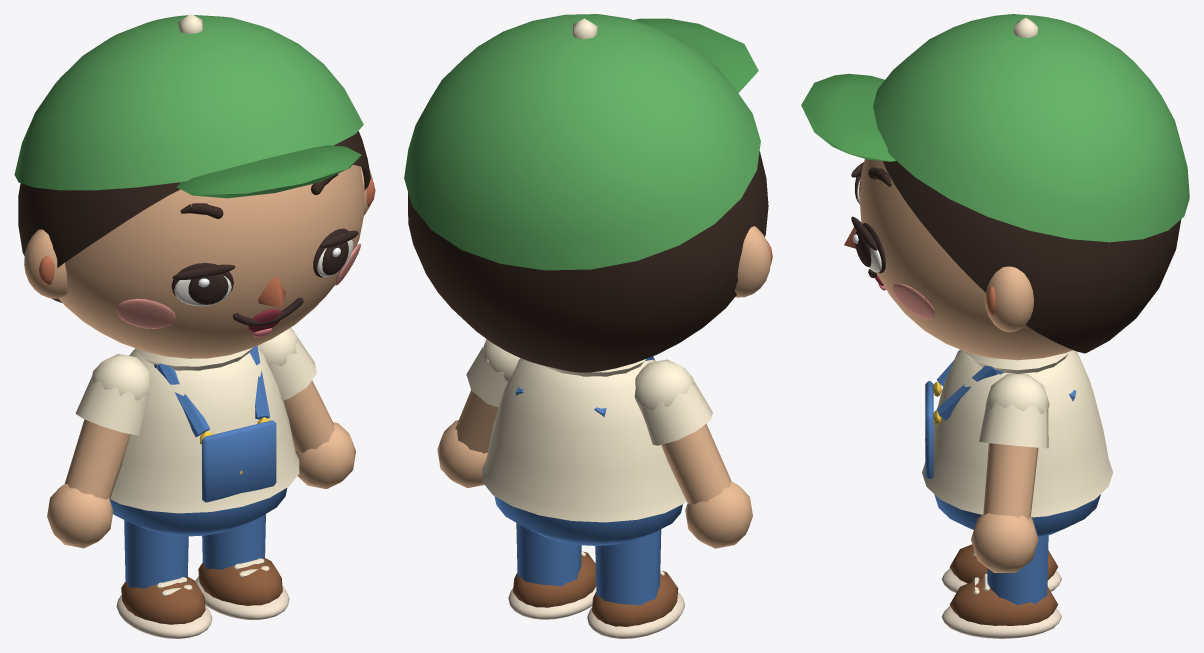
Rendered from player_4.glb.
3 views of the same model, side by side, from view 1: azimuth 30°, elevation 25°; view 2: azimuth 150°, elevation 25°; view 3: azimuth 270°, elevation 25° (orthographic). The views are drawn at different scales.
Visible parts, largest first — view 1: player_4__head, player_4__body, player_4__arm_R, player_4__leg_R, player_4__arm_L, player_4__leg_L, player_4__eyes, player_4__mouth_open, player_4__mouth; view 2: player_4__head, player_4__body, player_4__arm_R, player_4__leg_R, player_4__leg_L, player_4__arm_L; view 3: player_4__head, player_4__body, player_4__arm_L, player_4__leg_L, player_4__leg_R, player_4__eyes.
Part boxes in pixels (<box>): player_4__head: <box>14,14,375,358</box>; player_4__body: <box>110,346,299,536</box>; player_4__arm_R: <box>47,354,149,548</box>; player_4__leg_R: <box>116,520,212,638</box>; player_4__arm_L: <box>257,328,355,489</box>; player_4__leg_L: <box>195,514,289,619</box>; player_4__eyes: <box>171,228,358,306</box>; player_4__mouth_open: <box>248,309,281,337</box>; player_4__mouth: <box>232,297,303,326</box>; player_4__head: <box>404,14,772,372</box>; player_4__body: <box>482,356,686,545</box>; player_4__arm_R: <box>634,359,752,548</box>; player_4__leg_R: <box>587,529,684,638</box>; player_4__leg_L: <box>508,523,596,619</box>; player_4__arm_L: <box>437,339,520,488</box>; player_4__head: <box>801,14,1189,360</box>; player_4__body: <box>922,349,1113,536</box>; player_4__arm_L: <box>971,374,1049,572</box>; player_4__leg_L: <box>941,535,1061,638</box>; player_4__leg_R: <box>941,544,1061,592</box>; player_4__eyes: <box>851,162,885,273</box>.
Bounding box in the file's own units: 0.969 × 1.6 × 0.9473.
